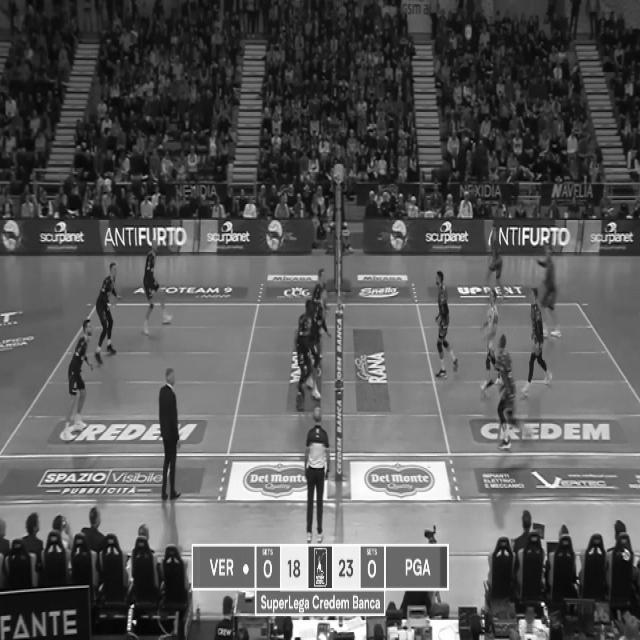volleyball court: (1, 296, 638, 457)
